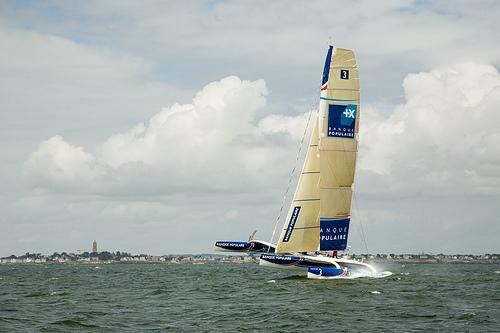Ship: (217, 46, 377, 281)
